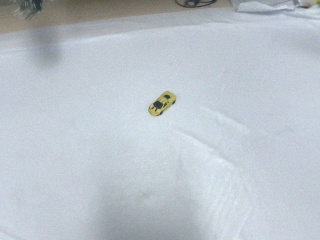toy_car: (149, 89, 176, 116)
